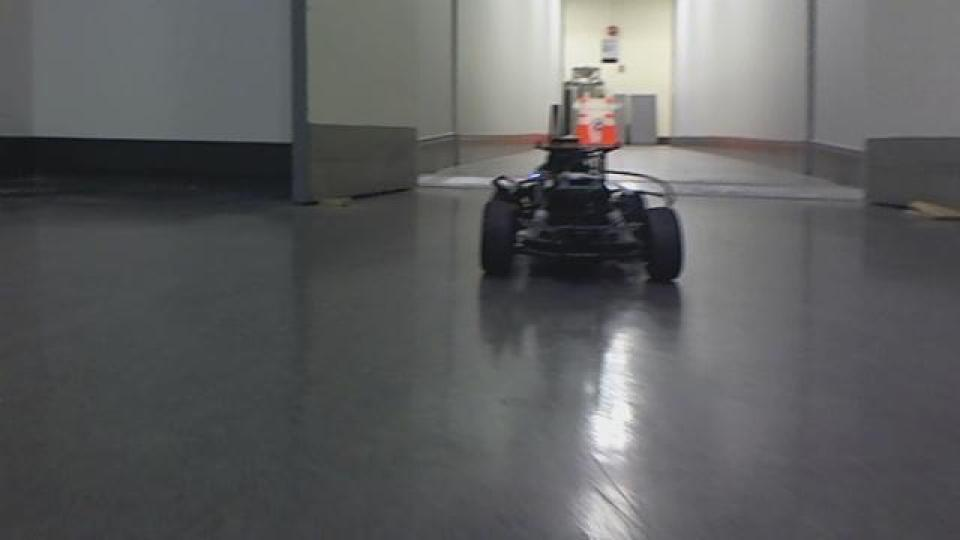car: (475, 132, 687, 286)
